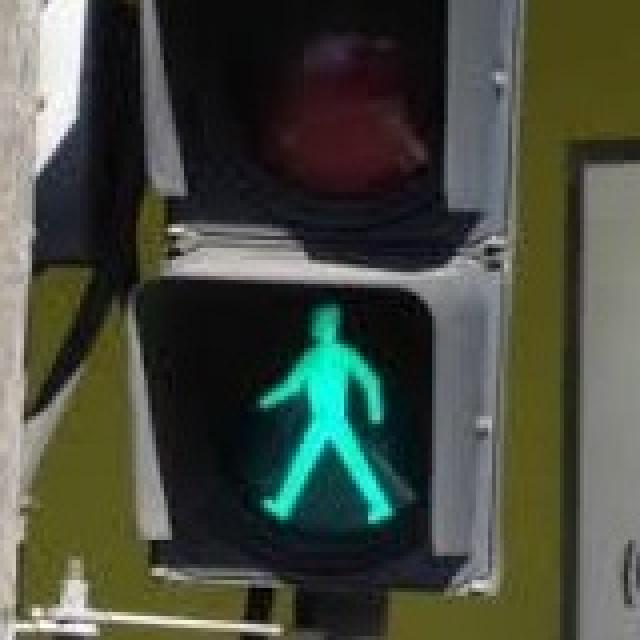geen-crossing: (240, 284, 408, 540)
